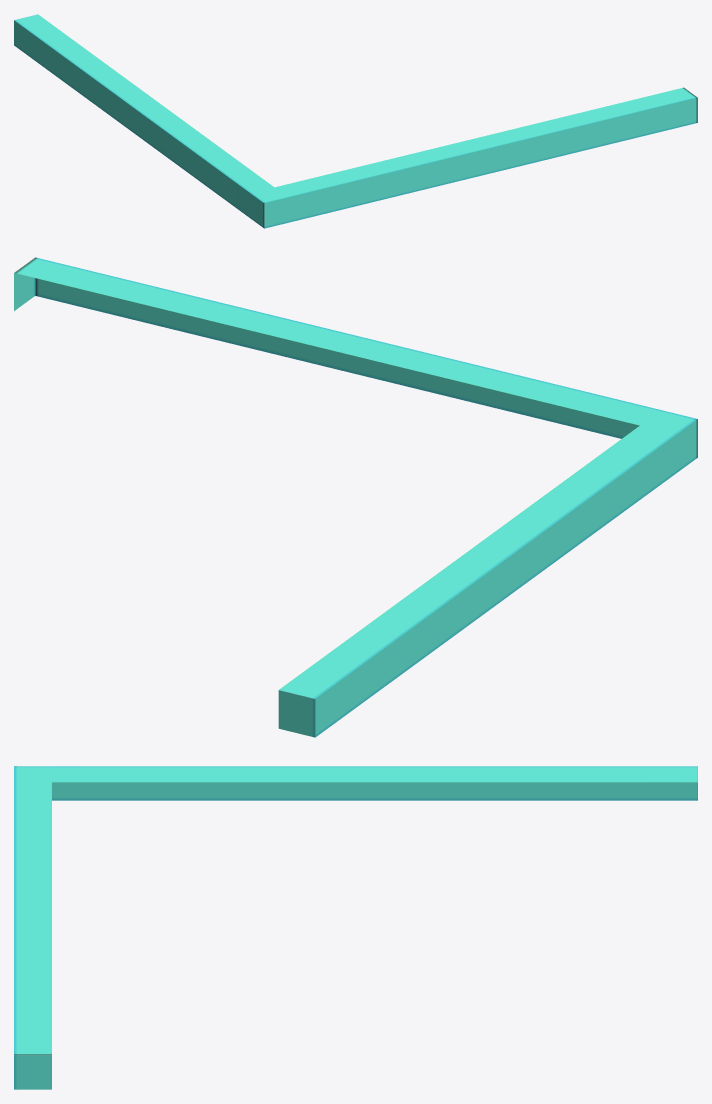
File: MK_Floor_Trim_E_Corner_Out.fbx
The picture shows the model from 3 angles, top to bottom: view 1: azimuth 30°, elevation 25°; view 2: azimuth 150°, elevation 25°; view 3: azimuth 270°, elevation 25°; orthographic projection. The views are drawn at different scales.
Visible parts, largest first — view 1: Floor_Trim_E_Corner_Out; view 2: Floor_Trim_E_Corner_Out; view 3: Floor_Trim_E_Corner_Out.
Part boxes in pixels (x1,y1,x2,y2): Floor_Trim_E_Corner_Out: (14,14,697,228); Floor_Trim_E_Corner_Out: (14,257,697,737); Floor_Trim_E_Corner_Out: (14,766,697,1089).
Size of the model in its own units: 203 by 11.25 by 202.
Materials: 1 (1 with a texture image).
